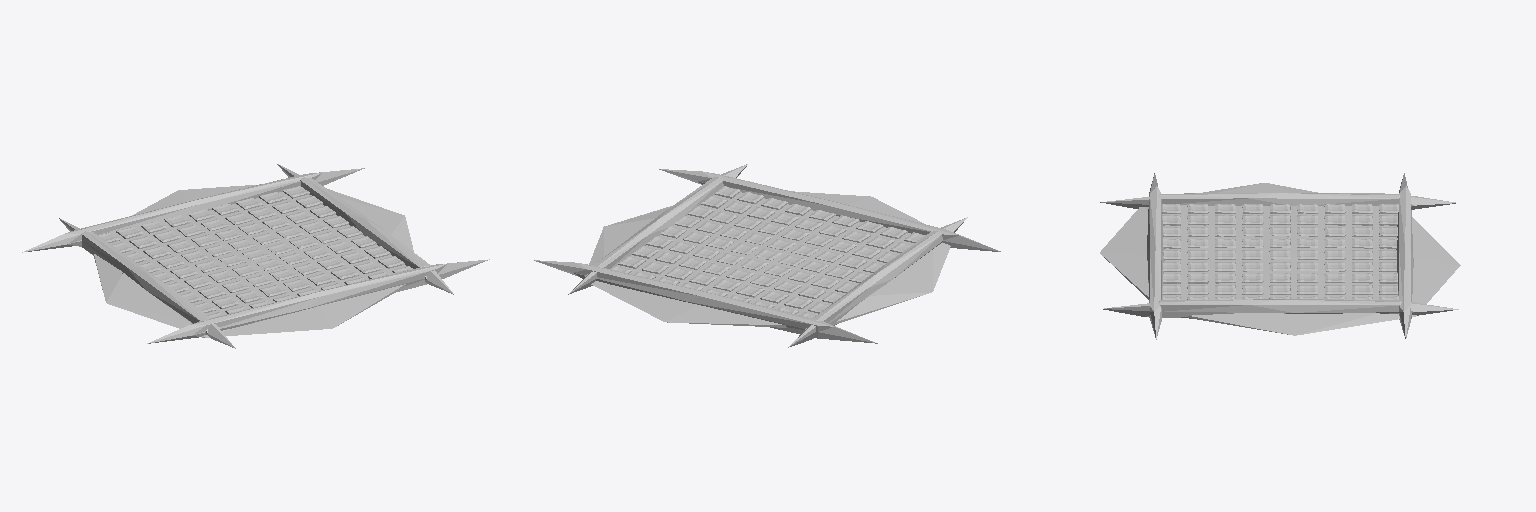
File: board2.obj.obj
3 renders of one model, left to right at view 1: azimuth 30°, elevation 25°; view 2: azimuth 150°, elevation 25°; view 3: azimuth 270°, elevation 25°, orthographic.
Visible parts, largest first — view 1: Box013, Box016, Box017, Box014, Box015, Box011, Box005, Box010, Box007, Box003, Box009, Box006 (+3 smaller); view 2: Box013, Box017, Box016, Box014, Box015, Box005, Box011, Box007, Box010, Box006, Box009, Box012 (+3 smaller); view 3: Box013, Box015, Box014, Box017, Box016, Box005, Box010, Box011, Box007, Box009, Box006, Box008 (+3 smaller).
Part boxes in pixels (x1,y1,x2,y2): Box013: (94,184,413,337); Box016: (147,259,489,343); Box017: (22,168,364,252); Box014: (59,218,235,348); Box015: (277,164,453,294); Box011: (194,256,404,312); Box005: (112,196,322,252); Box010: (181,246,390,302); Box007: (126,206,335,262); Box003: (98,186,309,242); Box009: (168,236,376,292); Box006: (140,216,348,272); Box013: (589,191,950,327); Box017: (534,260,877,343); Box016: (659,169,1000,251); Box014: (788,217,967,347); Box015: (568,164,747,294); Box005: (618,256,829,313); Box011: (701,196,911,252); Box007: (632,246,842,303); Box010: (688,206,896,262); Box006: (646,236,856,292); Box009: (675,216,882,272); Box012: (715,186,925,242); Box013: (1100,183,1460,335); Box015: (1103,299,1458,318); Box014: (1100,193,1455,209); Box017: (1396,173,1413,338); Box016: (1147,173,1163,339); Box005: (1352,204,1372,299); Box010: (1215,204,1235,299); Box011: (1187,204,1208,299); Box007: (1324,204,1345,299); Box009: (1242,204,1263,299); Box006: (1297,204,1317,298); Box008: (1269,204,1290,298).
Size of the model in its own units: 420 by 22.9 by 381.